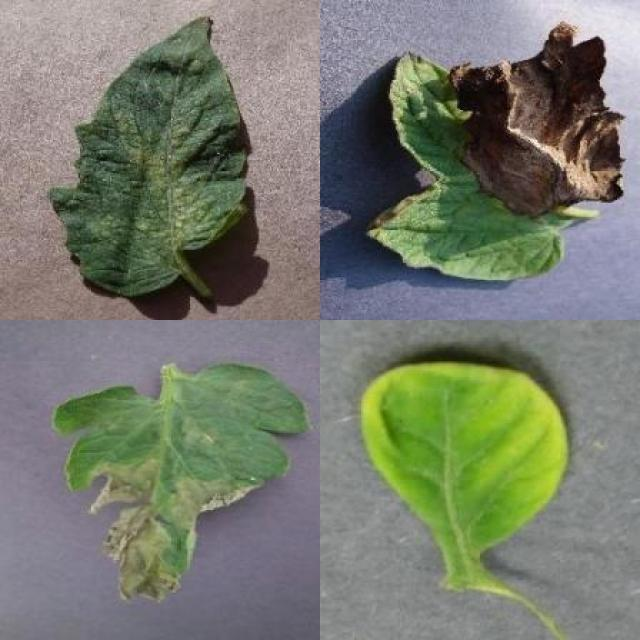Late Blight: (359, 20, 627, 283), (52, 362, 312, 608)
Spider Mites: (46, 15, 247, 298)
Yellow Leaf Curl Virus: (361, 362, 570, 547)
